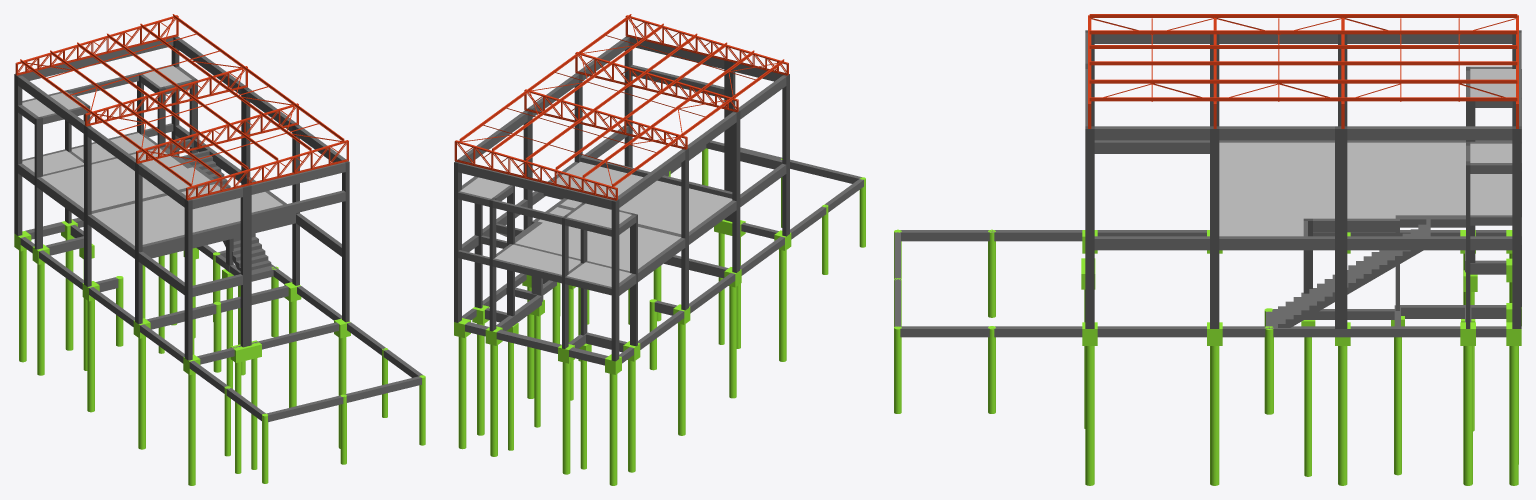
File: 036 - 2026 - COMP - R00 - etiquetado.obj
3 views of the same model, side by side, from view 1: azimuth 30°, elevation 25°; view 2: azimuth 150°, elevation 25°; view 3: azimuth 270°, elevation 25° (orthographic). The views are drawn at different scales.
Visible parts, largest first — view 1: Mesh146 L104 G_036___2026___STR___IFC___R00_IFC1 Model, Mesh90 L102 G_036___2026___STR___IFC___R00_IFC1 Model, Mesh33 V105 G_036___2026___STR___IFC___R00_IFC1 Model, Mesh11 LE100 Group1 G_036___2026___STR___IFC___R00_IFC1 Model, Mesh226 V300 G_036___2026___STR___IFC___R00_IFC1 Model, Mesh276 Componente226_1 G_036___2026___STR___IFC___R00_IFC1 Mode, Mesh285 Componente226_2 G_036___2026___STR___IFC___R00_IFC1 Mode, Mesh286 Componente230_1 G_036___2026___STR___IFC___R00_IFC1 Mode, Mesh339 Componente211_11 G_036___2026___STR___IFC___R00_IFC1 Mod, Mesh312 Componente211_2 G_036___2026___STR___IFC___R00_IFC1 Mode, Mesh328 Componente211_3 G_036___2026___STR___IFC___R00_IFC1 Mode, Mesh330 Componente211_4 G_036___2026___STR___IFC___R00_IFC1 Mode (+62 smaller); view 2: Mesh146 L104 G_036___2026___STR___IFC___R00_IFC1 Model, Mesh90 L102 G_036___2026___STR___IFC___R00_IFC1 Model, Mesh226 V300 G_036___2026___STR___IFC___R00_IFC1 Model, Mesh177 L101 G_036___2026___STR___IFC___R00_IFC1 Model, Mesh328 Componente211_3 G_036___2026___STR___IFC___R00_IFC1 Mode, Mesh335 Componente211_8 G_036___2026___STR___IFC___R00_IFC1 Mode, Mesh337 Componente211_10 G_036___2026___STR___IFC___R00_IFC1 Mod, Mesh33 V105 G_036___2026___STR___IFC___R00_IFC1 Model, Mesh286 Componente230_1 G_036___2026___STR___IFC___R00_IFC1 Mode, Mesh330 Componente211_4 G_036___2026___STR___IFC___R00_IFC1 Mode, Mesh339 Componente211_11 G_036___2026___STR___IFC___R00_IFC1 Mod, Mesh312 Componente211_2 G_036___2026___STR___IFC___R00_IFC1 Mode (+56 smaller); view 3: Mesh146 L104 G_036___2026___STR___IFC___R00_IFC1 Model, Mesh90 L102 G_036___2026___STR___IFC___R00_IFC1 Model, Mesh11 LE100 Group1 G_036___2026___STR___IFC___R00_IFC1 Model, Mesh291 Componente230_2 G_036___2026___STR___IFC___R00_IFC1 Mode, Mesh177 L101 G_036___2026___STR___IFC___R00_IFC1 Model, Mesh290 Componente201_5 G_036___2026___STR___IFC___R00_IFC1 Mode, Mesh265 Componente201_2 G_036___2026___STR___IFC___R00_IFC1 Mode, Mesh289 Componente201_4 G_036___2026___STR___IFC___R00_IFC1 Mode, Mesh286 Componente230_1 G_036___2026___STR___IFC___R00_IFC1 Mode, Mesh261 Componente201_1 G_036___2026___STR___IFC___R00_IFC1 Mode, Mesh334 Componente211_7 G_036___2026___STR___IFC___R00_IFC1 Mode, Mesh337 Componente211_10 G_036___2026___STR___IFC___R00_IFC1 Mod (+39 smaller).
Part boxes in pixels (x1,y1,x2,y2): Mesh146 L104 G_036___2026___STR___IFC___R00_IFC1 Model: [92, 184, 282, 245]; Mesh90 L102 G_036___2026___STR___IFC___R00_IFC1 Model: [41, 148, 210, 210]; Mesh33 V105 G_036___2026___STR___IFC___R00_IFC1 Model: [142, 213, 295, 258]; Mesh11 LE100 Group1 G_036___2026___STR___IFC___R00_IFC1 Model: [186, 155, 271, 270]; Mesh226 V300 G_036___2026___STR___IFC___R00_IFC1 Model: [21, 37, 173, 80]; Mesh276 Componente226_1 G_036___2026___STR___IFC___R00_IFC1 Mode: [251, 190, 345, 223]; Mesh285 Componente226_2 G_036___2026___STR___IFC___R00_IFC1 Mode: [251, 162, 345, 194]; Mesh286 Componente230_1 G_036___2026___STR___IFC___R00_IFC1 Mode: [18, 76, 84, 133]; Mesh339 Componente211_11 G_036___2026___STR___IFC___R00_IFC1 Mod: [37, 263, 44, 375]; Mesh312 Componente211_2 G_036___2026___STR___IFC___R00_IFC1 Mode: [138, 337, 145, 449]; Mesh328 Componente211_3 G_036___2026___STR___IFC___R00_IFC1 Mode: [19, 250, 26, 362]; Mesh330 Componente211_4 G_036___2026___STR___IFC___R00_IFC1 Mode: [87, 300, 94, 412]; Mesh146 L104 G_036___2026___STR___IFC___R00_IFC1 Model: [552, 162, 732, 233]; Mesh90 L102 G_036___2026___STR___IFC___R00_IFC1 Model: [515, 207, 680, 271]; Mesh226 V300 G_036___2026___STR___IFC___R00_IFC1 Model: [458, 162, 611, 209]; Mesh177 L101 G_036___2026___STR___IFC___R00_IFC1 Model: [494, 244, 580, 274]; Mesh328 Componente211_3 G_036___2026___STR___IFC___R00_IFC1 Mode: [609, 373, 617, 485]; Mesh335 Componente211_8 G_036___2026___STR___IFC___R00_IFC1 Mode: [562, 362, 570, 474]; Mesh337 Componente211_10 G_036___2026___STR___IFC___R00_IFC1 Mod: [458, 337, 466, 449]; Mesh33 V105 G_036___2026___STR___IFC___R00_IFC1 Model: [580, 155, 732, 198]; Mesh286 Componente230_1 G_036___2026___STR___IFC___R00_IFC1 Mode: [618, 150, 685, 207]; Mesh330 Componente211_4 G_036___2026___STR___IFC___R00_IFC1 Mode: [678, 323, 685, 435]; Mesh339 Componente211_11 G_036___2026___STR___IFC___R00_IFC1 Mod: [628, 360, 635, 472]; Mesh312 Componente211_2 G_036___2026___STR___IFC___R00_IFC1 Mode: [729, 286, 736, 398]; Mesh146 L104 G_036___2026___STR___IFC___R00_IFC1 Model: [1219, 142, 1334, 236]; Mesh90 L102 G_036___2026___STR___IFC___R00_IFC1 Model: [1347, 142, 1465, 218]; Mesh11 LE100 Group1 G_036___2026___STR___IFC___R00_IFC1 Model: [1278, 224, 1426, 327]; Mesh291 Componente230_2 G_036___2026___STR___IFC___R00_IFC1 Mode: [1347, 126, 1512, 140]; Mesh177 L101 G_036___2026___STR___IFC___R00_IFC1 Model: [1470, 174, 1512, 215]; Mesh290 Componente201_5 G_036___2026___STR___IFC___R00_IFC1 Mode: [1219, 126, 1334, 140]; Mesh265 Componente201_2 G_036___2026___STR___IFC___R00_IFC1 Mode: [1094, 236, 1209, 250]; Mesh289 Componente201_4 G_036___2026___STR___IFC___R00_IFC1 Mode: [1094, 126, 1209, 140]; Mesh286 Componente230_1 G_036___2026___STR___IFC___R00_IFC1 Mode: [1347, 34, 1512, 43]; Mesh261 Componente201_1 G_036___2026___STR___IFC___R00_IFC1 Mode: [1094, 140, 1209, 153]; Mesh334 Componente211_7 G_036___2026___STR___IFC___R00_IFC1 Mode: [1085, 346, 1094, 485]; Mesh337 Componente211_10 G_036___2026___STR___IFC___R00_IFC1 Mod: [1509, 346, 1518, 485].
Size of the model in its own units: 7.6 by 14.03 by 20.12.
